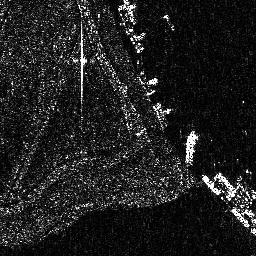ship: (183, 128, 199, 167)
